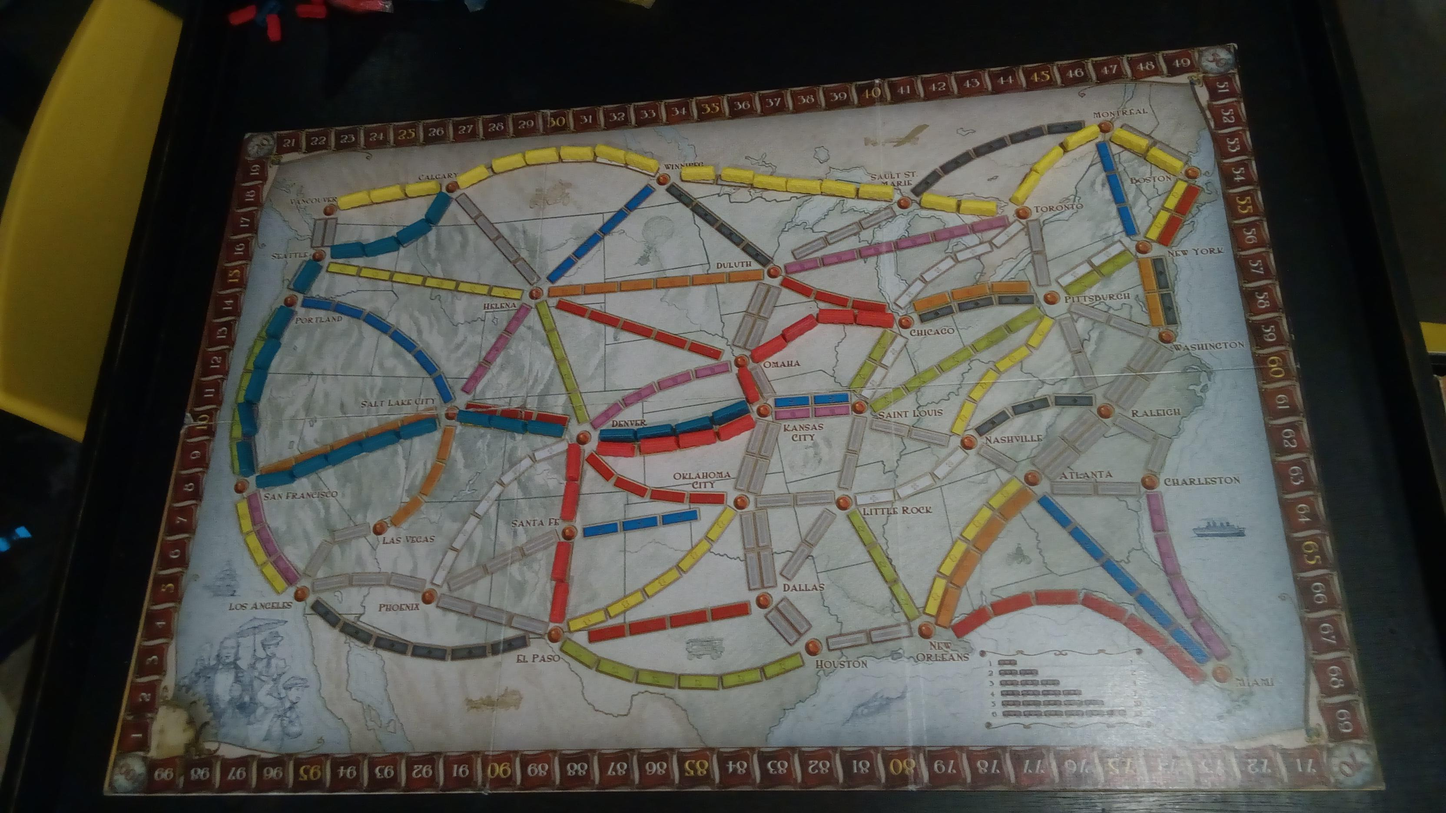blue_train: (289, 260, 321, 294), (710, 400, 750, 425), (396, 219, 432, 245), (265, 307, 294, 338), (252, 338, 280, 370), (425, 192, 452, 225), (361, 430, 400, 452), (327, 441, 362, 465), (244, 367, 267, 403), (400, 418, 438, 439), (364, 235, 401, 256), (292, 455, 327, 477), (234, 440, 255, 476), (256, 469, 295, 488), (675, 416, 713, 435), (491, 415, 527, 433), (237, 402, 256, 436), (527, 420, 564, 437), (637, 424, 675, 440), (457, 410, 491, 426), (331, 242, 364, 258), (599, 429, 636, 443)
red_train: (719, 413, 755, 440), (781, 315, 817, 342), (752, 334, 786, 362), (549, 582, 569, 623), (551, 541, 571, 581), (738, 369, 761, 403), (679, 428, 717, 448), (561, 482, 580, 521), (641, 436, 679, 454), (856, 311, 894, 327), (816, 309, 855, 324), (566, 444, 581, 482), (597, 442, 637, 456)
